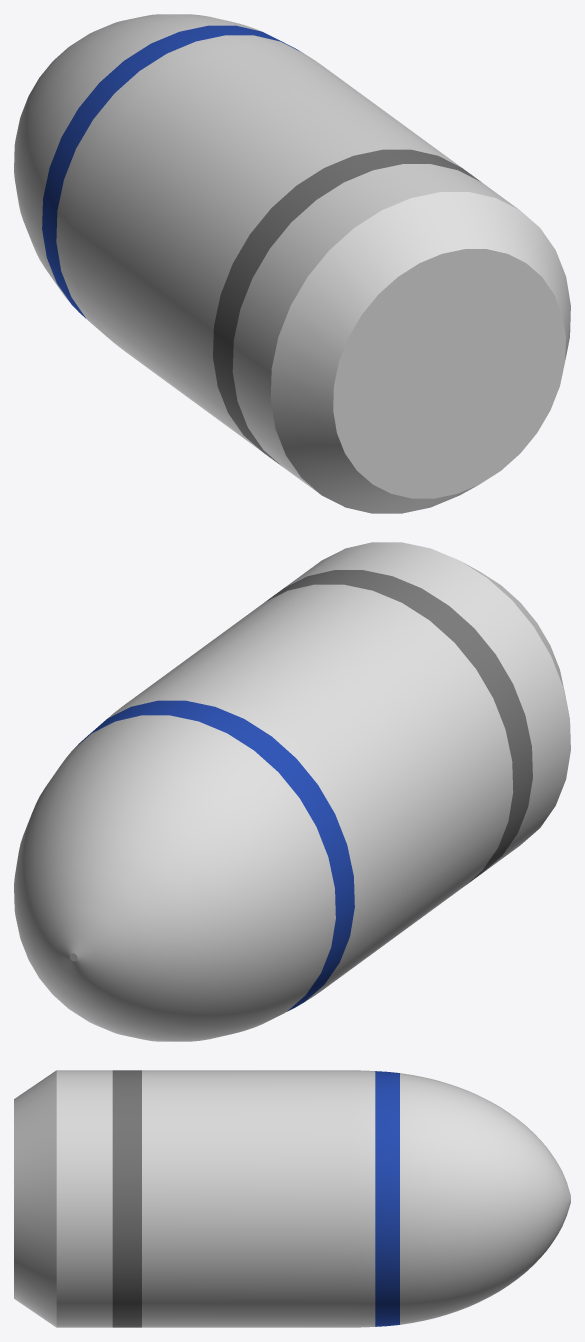
The model's file is Rocket.fbx.
The picture shows the model from 3 angles, top to bottom: view 1: azimuth 30°, elevation 25°; view 2: azimuth 150°, elevation 25°; view 3: azimuth 270°, elevation 25°; orthographic projection. The views are drawn at different scales.
Parts seen in each view (by area): view 1: Rocket; view 2: Rocket; view 3: Rocket.
Part boxes in pixels (<box>): Rocket: <box>14,14,570,513</box>; Rocket: <box>14,542,570,1041</box>; Rocket: <box>14,1070,570,1327</box>.
Bounding box in the file's own units: 200 × 200 × 433.
